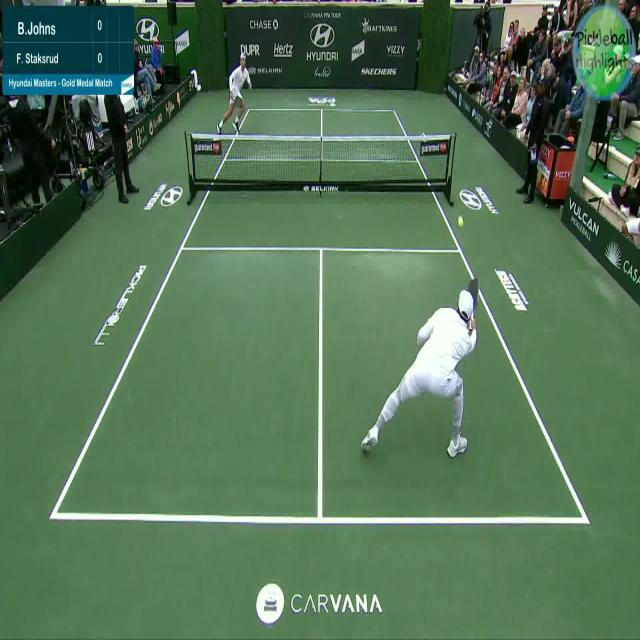ball: (457, 214, 464, 227)
